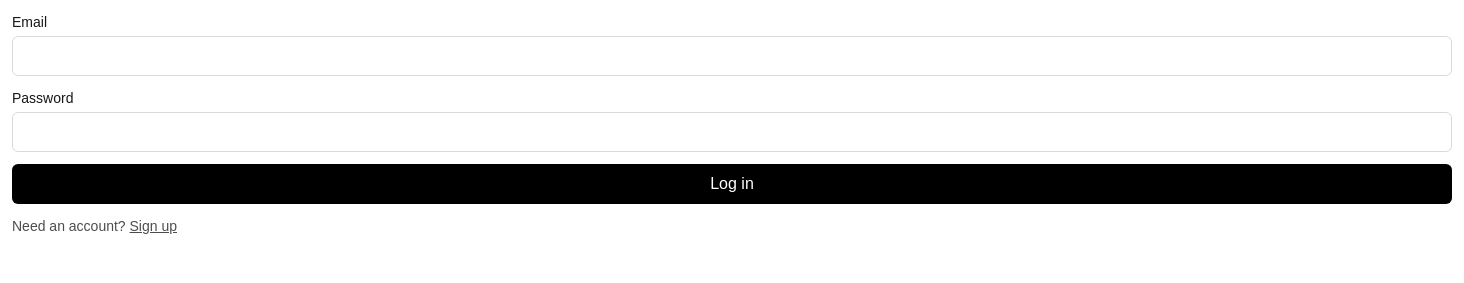
auth flow › shows an error for invalid login credentials
Type "missing@example.com" into the field with test id "auth-login-email" at (732, 56), box [12,36,1452,76]
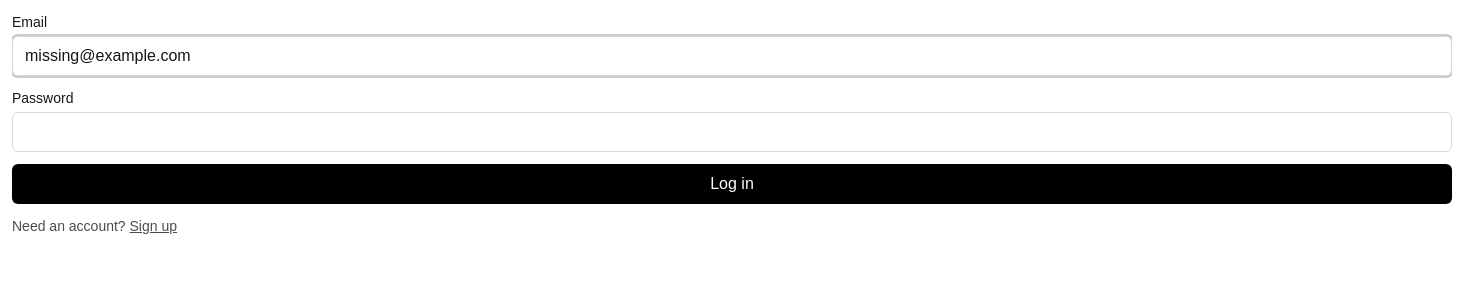
Type "wrong" into the password field with test id "auth-login-password" at (732, 132), box [12,112,1452,152]
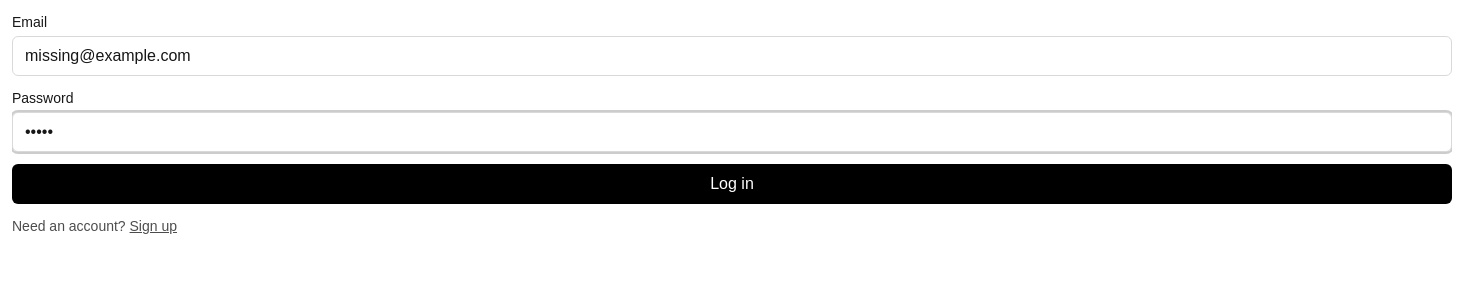
Click the button with test id "auth-login-submit" at (732, 184), box [12,164,1452,204]
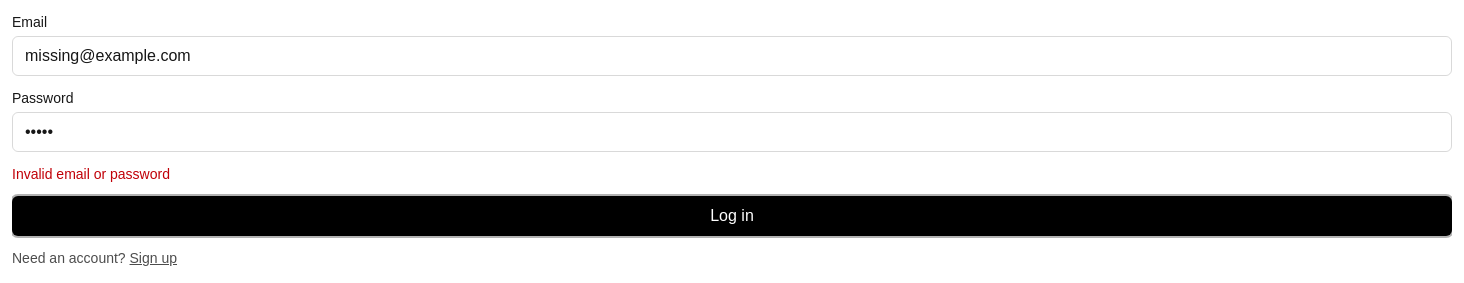
Check: the text "Invalid email or password" is shown, box [12,166,170,182]
